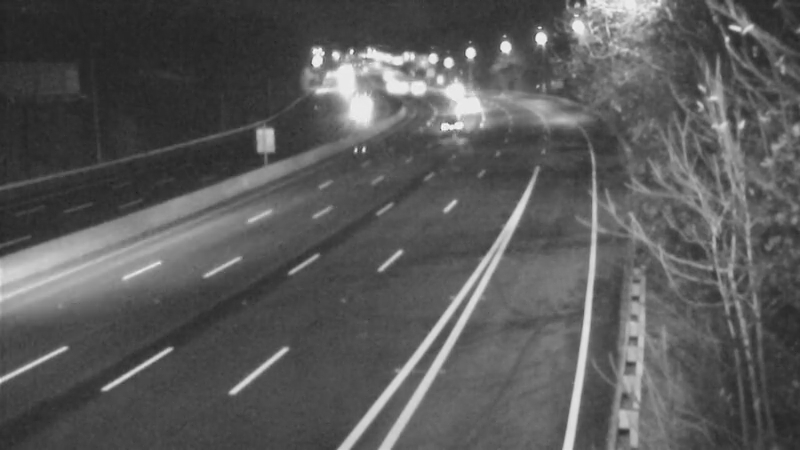vehicle: (390, 62, 440, 112), (427, 72, 477, 122), (439, 82, 489, 132), (427, 101, 477, 151), (334, 84, 384, 134)
